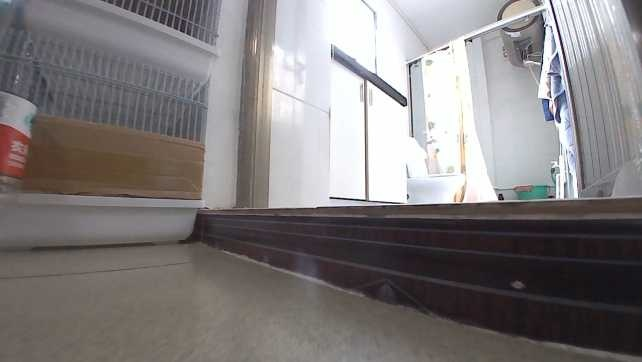door_sill: (197, 194, 640, 352)
toilet: (404, 135, 466, 202)
